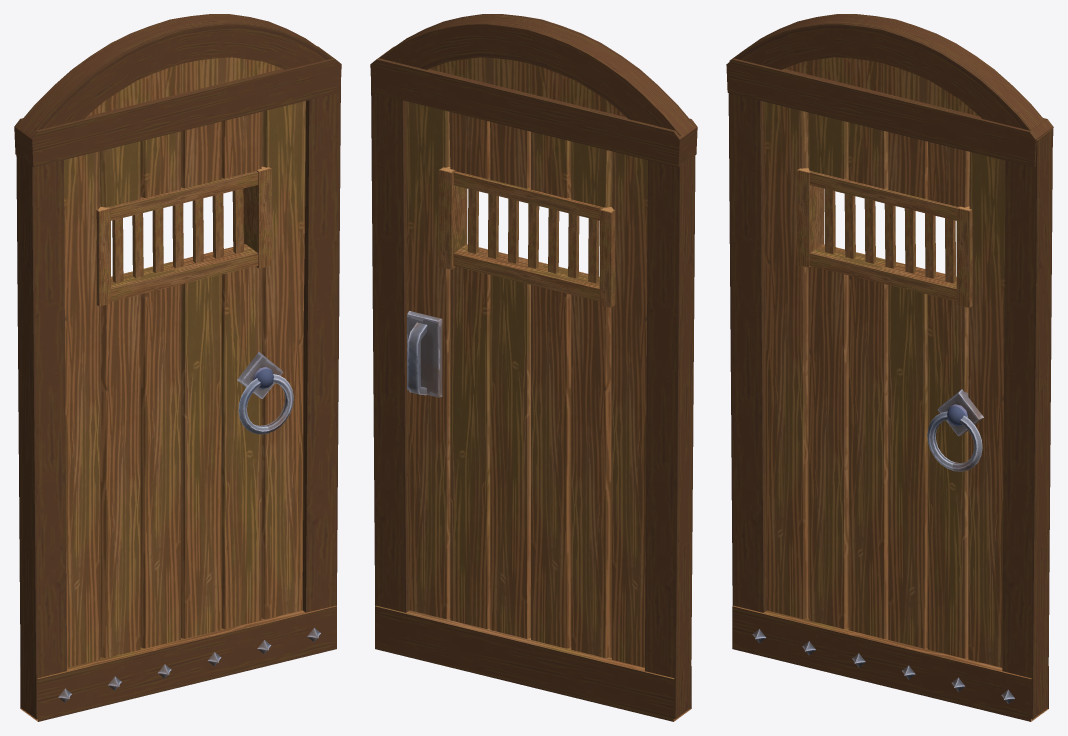
Rendered from Door_8_Round.gltf.
The picture shows the model from 3 angles, left to right: view 1: azimuth 30°, elevation 25°; view 2: azimuth 150°, elevation 25°; view 3: azimuth 330°, elevation 25°; orthographic projection.
Visible parts, largest first — view 1: Door_8_Round; view 2: Door_8_Round; view 3: Door_8_Round.
Boxes of the visible parts, x1,y1,x2,y2 form: Door_8_Round: [14, 14, 341, 721]; Door_8_Round: [370, 14, 697, 721]; Door_8_Round: [726, 14, 1053, 721].
Bounding box in the file's own units: 1.15 × 2.32 × 0.1994.
Materials: 2 (2 with a texture image).
